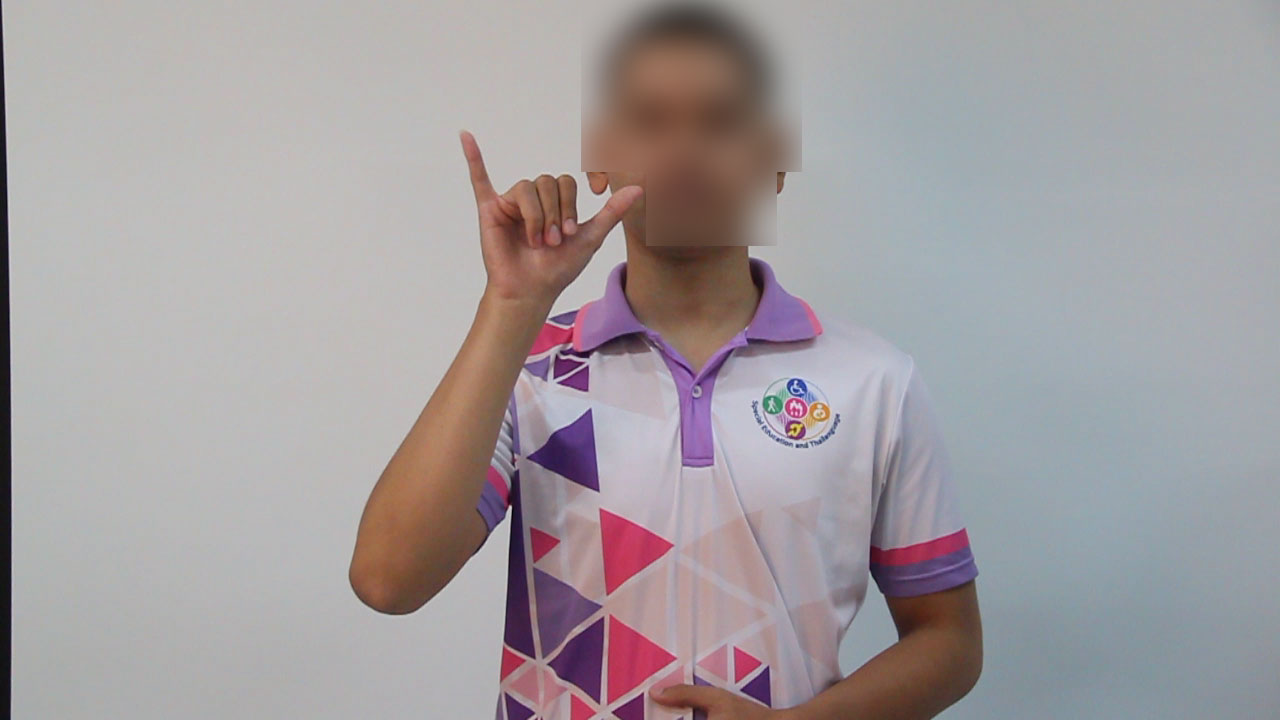yor: (438, 118, 645, 310)
